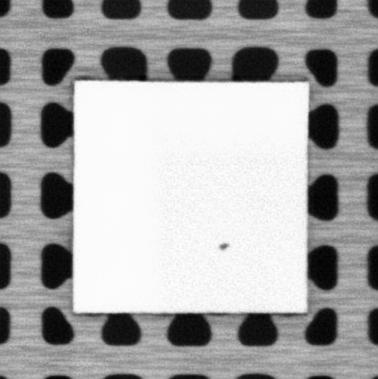DIE_INK: (217, 239, 231, 252)
